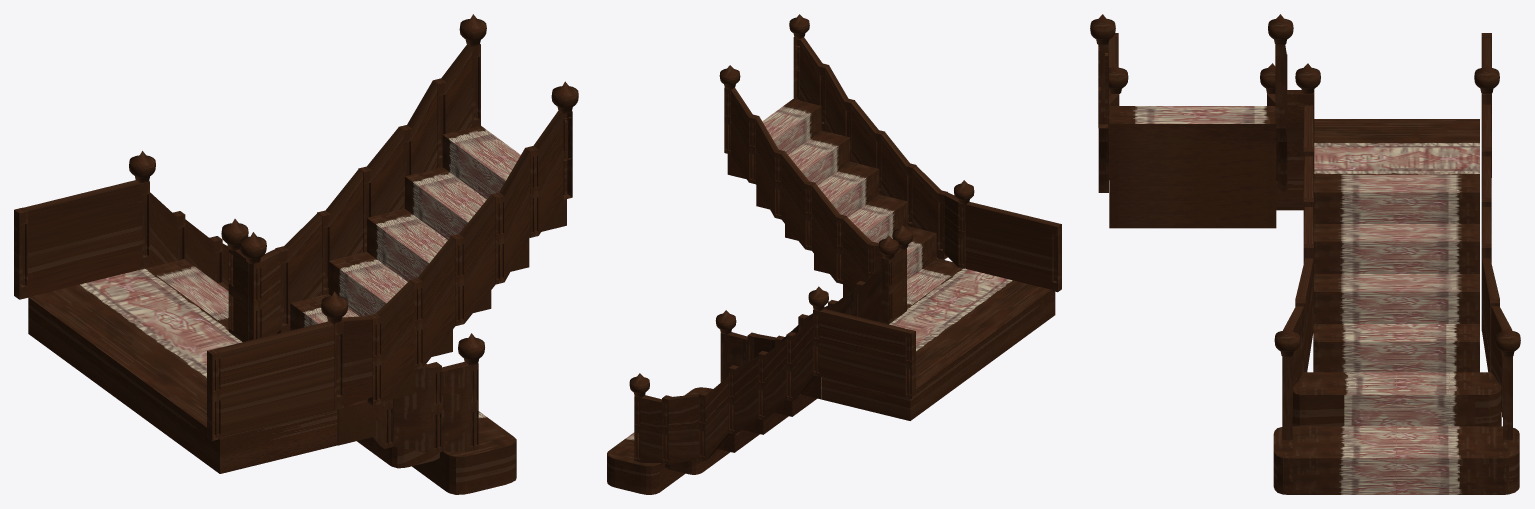
The model's file is schody.fbx.
3 views of the same model, side by side, from view 1: azimuth 30°, elevation 25°; view 2: azimuth 150°, elevation 25°; view 3: azimuth 270°, elevation 25° (orthographic). The views are drawn at different scales.
Visible parts, largest first — view 1: Cube.006, Cube.015, Cube.012, Cube.017, Cube.022, Cube.020, Cube.013, Cube, Cube.016, Cube.005, Cube.014, Cube.021 (+6 smaller); view 2: Cube.006, Cube.016, Cube.012, Cube.017, Cube.015, Cube.022, Cube.020, Cube.013, Cube, Cube.005, Cube.014, Cube.021; view 3: Cube.005, Cube, Cube.012, Cube.006, Cube.016, Cube.013, Cube.017, Cube.015, Cube.014, Cube.018, Cube.029, Cube.025 (+5 smaller).
Part boxes in pixels (x1,y1,x2,y2): Cube.006: [28, 268, 337, 473]; Cube.015: [333, 111, 572, 409]; Cube.012: [290, 126, 566, 445]; Cube.017: [248, 44, 480, 340]; Cube.022: [207, 321, 334, 440]; Cube.020: [23, 180, 149, 297]; Cube.013: [373, 362, 478, 453]; Cube: [357, 411, 516, 494]; Cube.016: [150, 192, 228, 286]; Cube.005: [146, 259, 228, 328]; Cube.014: [228, 248, 248, 341]; Cube.021: [14, 207, 27, 299]; Cube.006: [821, 268, 1055, 420]; Cube.016: [634, 318, 814, 464]; Cube.012: [727, 99, 961, 308]; Cube.017: [724, 88, 906, 313]; Cube.015: [793, 37, 965, 268]; Cube.022: [965, 202, 1061, 292]; Cube.020: [813, 308, 908, 397]; Cube.013: [720, 268, 881, 382]; Cube: [607, 387, 730, 494]; Cube.005: [717, 317, 879, 452]; Cube.014: [881, 248, 903, 324]; Cube.021: [905, 329, 915, 398]; Cube.005: [1313, 174, 1479, 372]; Cube: [1273, 372, 1519, 494]; Cube.012: [1109, 106, 1276, 228]; Cube.006: [1276, 119, 1479, 210]; Cube.016: [1481, 104, 1512, 439]; Cube.013: [1282, 105, 1313, 439]; Cube.017: [1267, 44, 1287, 192]; Cube.015: [1098, 44, 1119, 192]; Cube.014: [1287, 90, 1314, 177]; Cube.018: [1495, 326, 1520, 356]; Cube.029: [1090, 14, 1115, 44]; Cube.025: [1474, 63, 1499, 93].
Size of the model in its own units: 1158 by 1330 by 1130.
